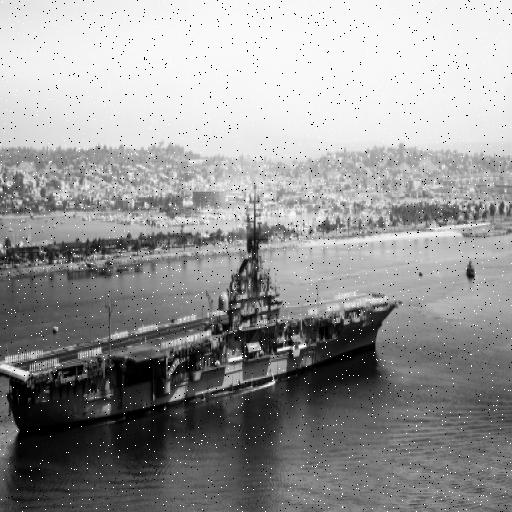Portanaves: (1, 181, 408, 450)
